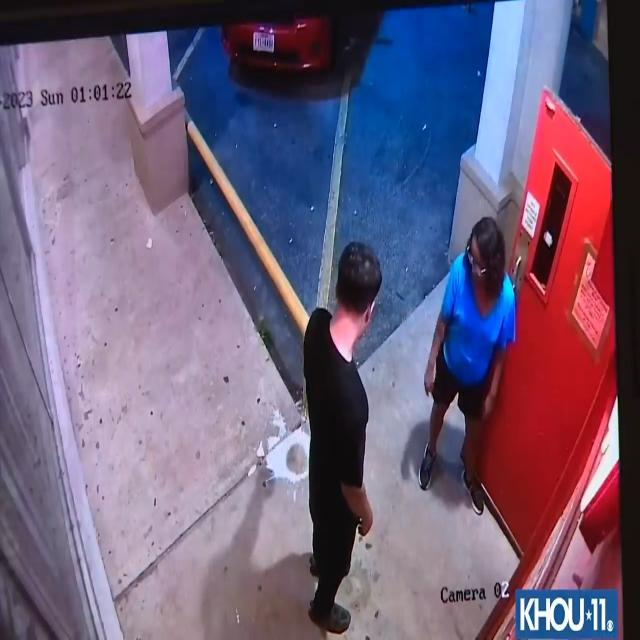Person: (420, 195, 513, 530), (301, 238, 377, 640)
